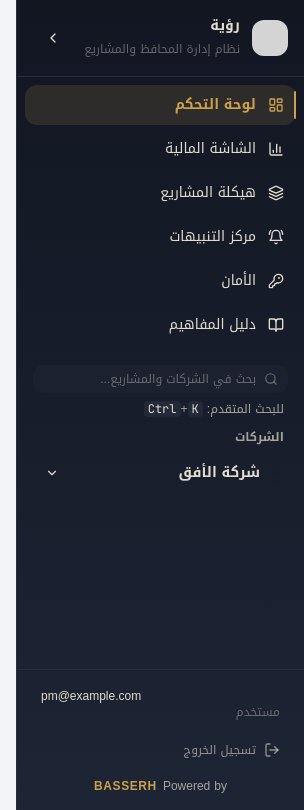
Scenario: AppSidebar › lists the active companies, opens a company to its live projects and portfolios, keeps the finished ones behind a toggle, and offers the add buttons to an edito
The width and height of the screenshot is (304, 810).
Click the button named "توسيع".
click(49, 473)  # box x1=37 y1=461 x2=61 y2=485
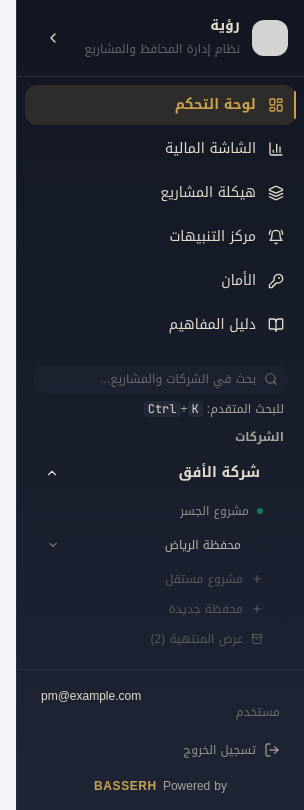
Click the button "عرض المنتهية (2)".
click(150, 639)  # box x1=25 y1=625 x2=275 y2=653
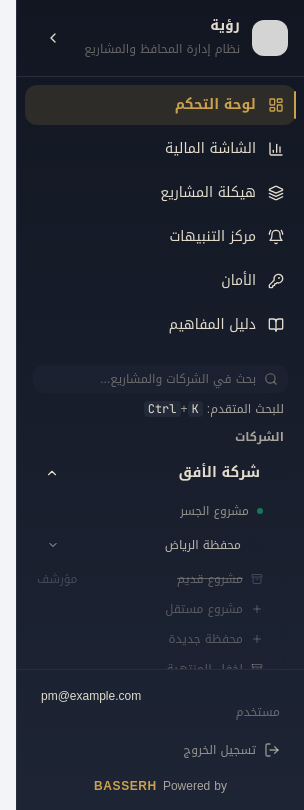
Result: the button "مشروع قديم مؤرشف" is shown at x1=25 y1=565 x2=275 y2=593
Click the button named "توسيع".
click(49, 545)  # box x1=37 y1=533 x2=61 y2=557
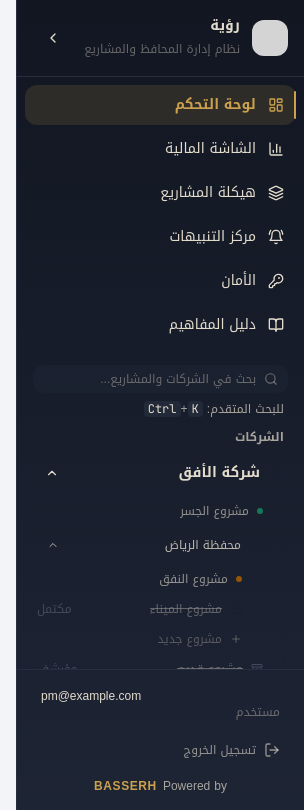
Click the button "مشروع جديد".
click(140, 639)  # box x1=25 y1=625 x2=254 y2=653
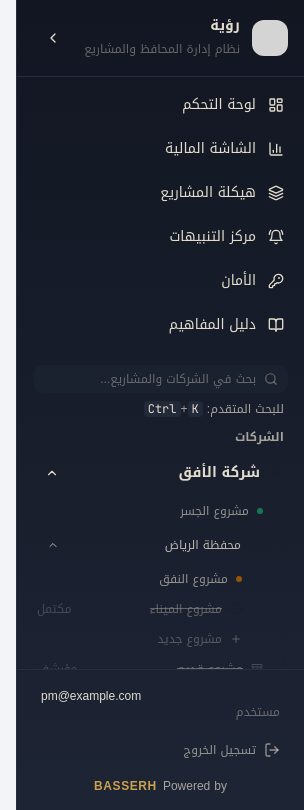
Click the button "مشروع النفق".
click(140, 579)  # box x1=25 y1=565 x2=254 y2=593
(page scrolled)
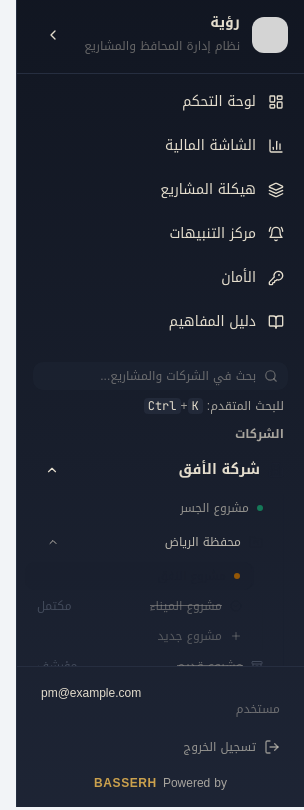
Result: the text with test id "path" reads "/project/p2" at x1=229 y1=779 x2=303 y2=809
